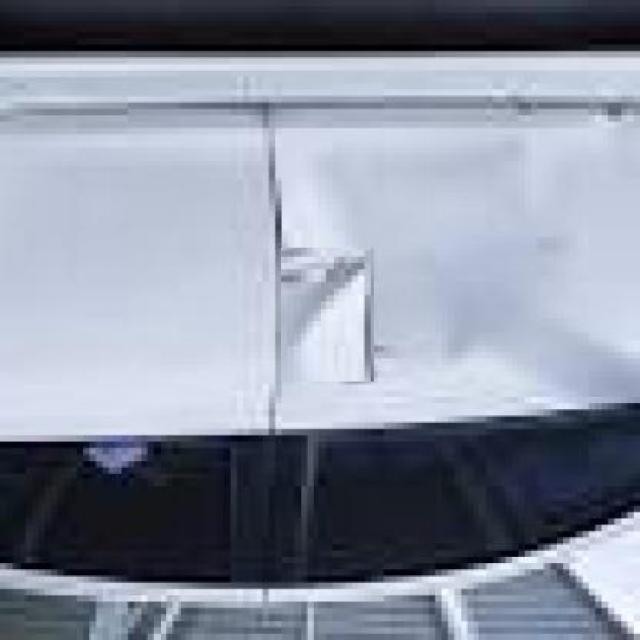dent: (257, 149, 585, 384)
